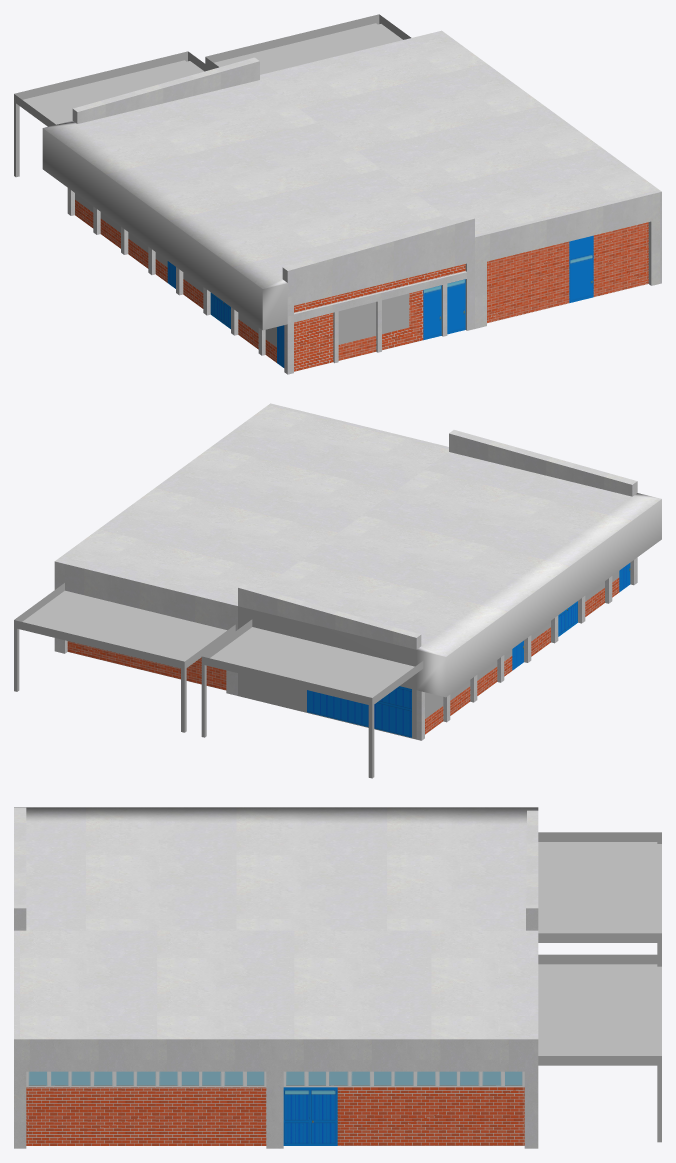
File: pabellon_12.fbx
The picture shows the model from 3 angles, top to bottom: view 1: azimuth 30°, elevation 25°; view 2: azimuth 150°, elevation 25°; view 3: azimuth 270°, elevation 25°; orthographic projection. The views are drawn at different scales.
Parts seen in each view (by area): view 1: pab_12:pabellon_12_final; view 2: pab_12:pabellon_12_final; view 3: pab_12:pabellon_12_final.
Boxes of the visible parts, <box> form: pab_12:pabellon_12_final: <box>14,14,661,374</box>; pab_12:pabellon_12_final: <box>14,403,661,778</box>; pab_12:pabellon_12_final: <box>14,807,661,1148</box>.
Bounding box in the file's own units: 2279 × 603 × 2690.
